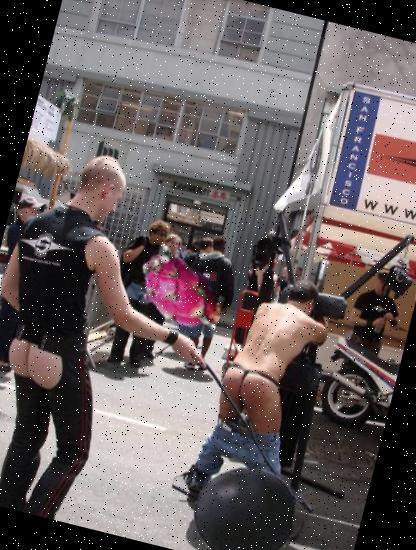Grape: (183, 454, 303, 550)
Pitahaya: (122, 242, 236, 354)
